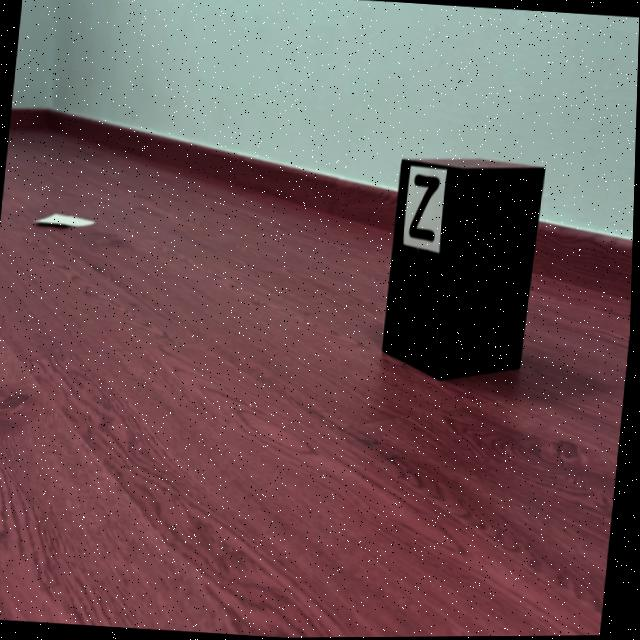Z: (409, 174, 440, 242)
